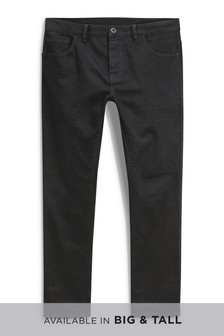jeans: (25, 17, 201, 302)
